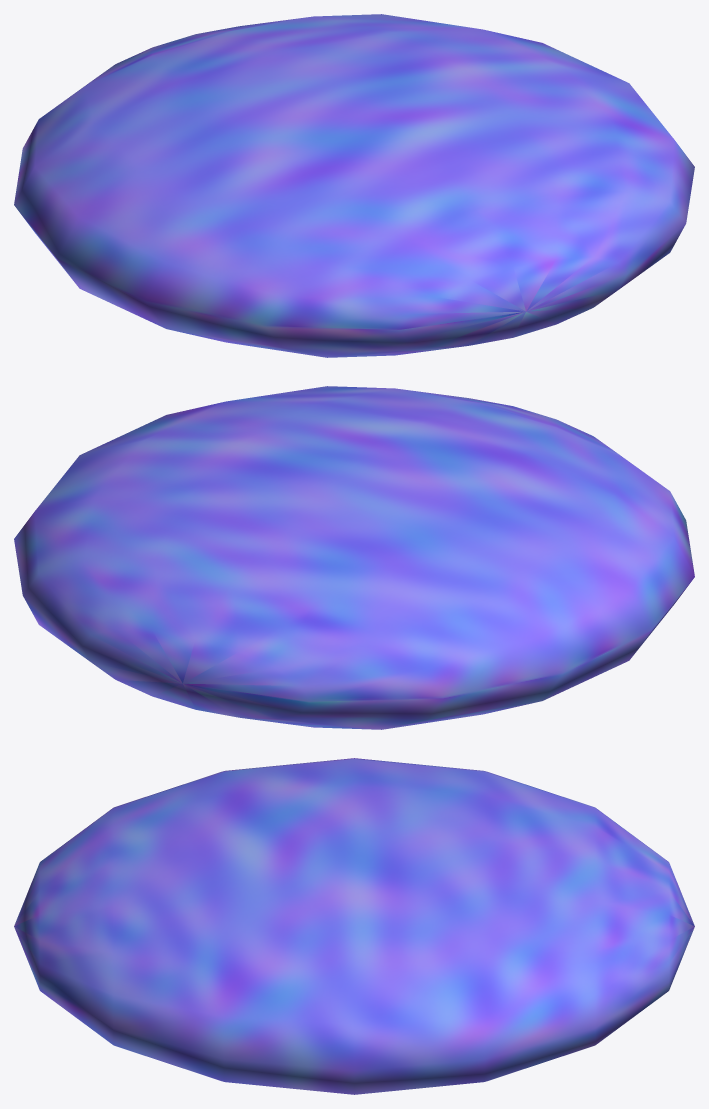
File: shrike_prj.FBX
3 views of the same model, one above another, from view 1: azimuth 30°, elevation 25°; view 2: azimuth 150°, elevation 25°; view 3: azimuth 270°, elevation 25° (orthographic).
Parts seen in each view (by area): view 1: shrike_prj; view 2: shrike_prj; view 3: shrike_prj.
Boxes of the visible parts, bbox=[...] form: shrike_prj: bbox=[14, 14, 694, 357]; shrike_prj: bbox=[14, 386, 694, 729]; shrike_prj: bbox=[14, 758, 694, 1094].
Bounding box in the file's own units: 64 × 64 × 19.2.
